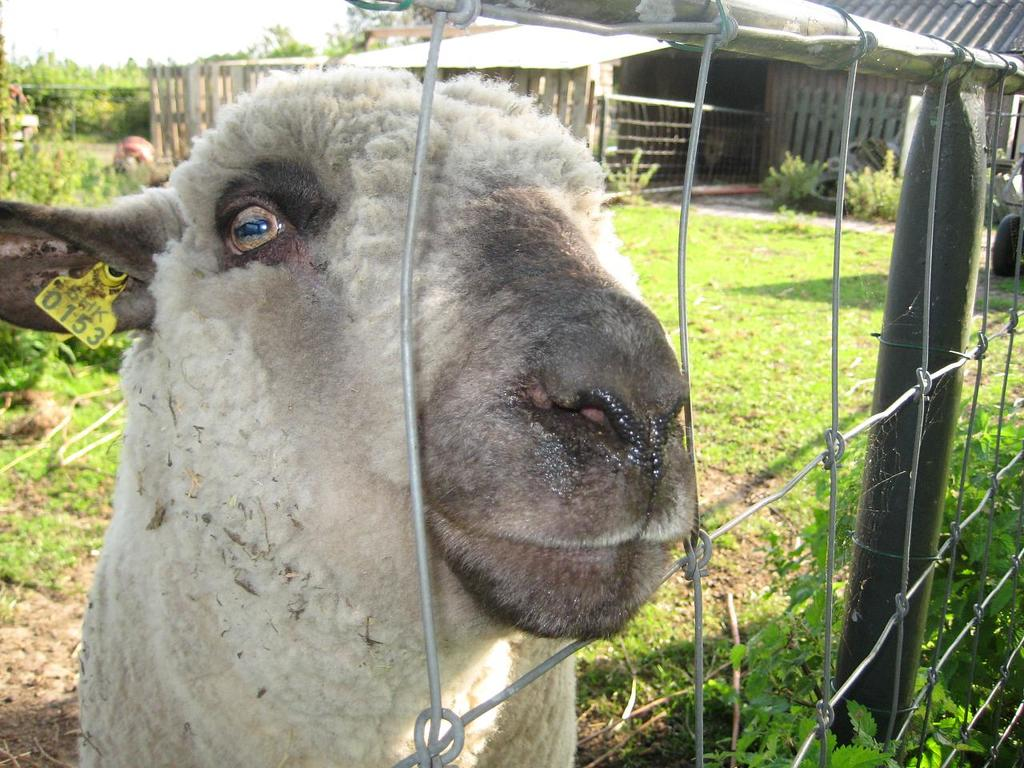Tree: (0, 50, 187, 122), (237, 18, 312, 61)
